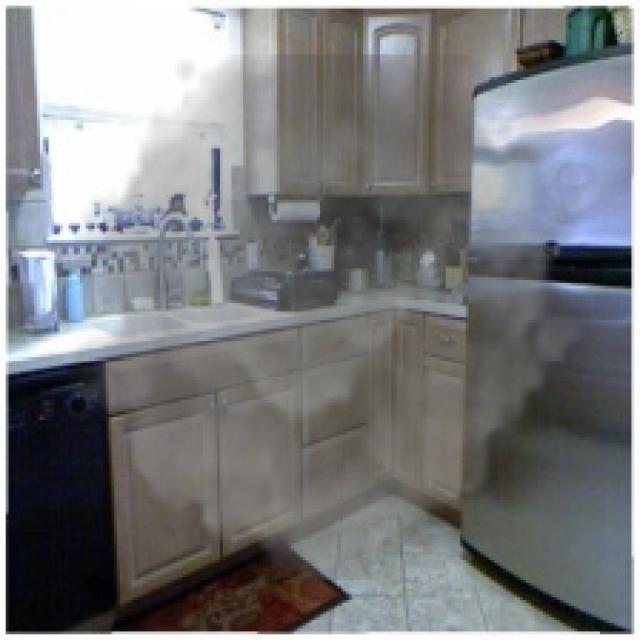Smoke: (63, 54, 603, 580)
